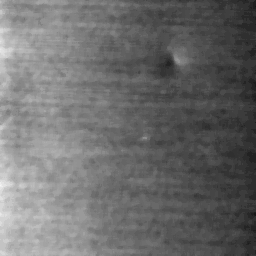dent: (159, 48, 182, 78)
